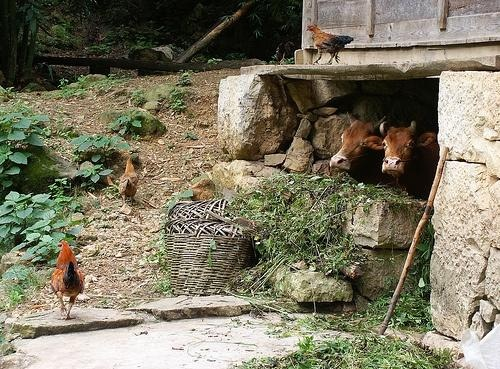bird: (51, 239, 87, 322), (305, 24, 355, 65), (116, 158, 141, 206)
cow: (379, 119, 440, 199), (329, 114, 380, 179)
